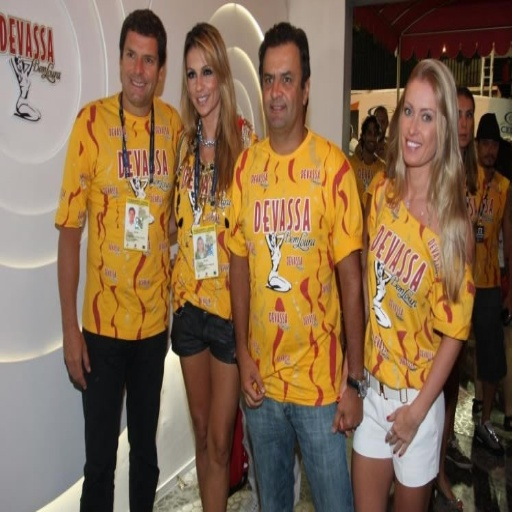hand: (389, 389, 435, 468), (234, 347, 266, 407), (61, 327, 90, 390), (329, 383, 363, 436), (335, 370, 358, 436), (503, 285, 510, 316)
